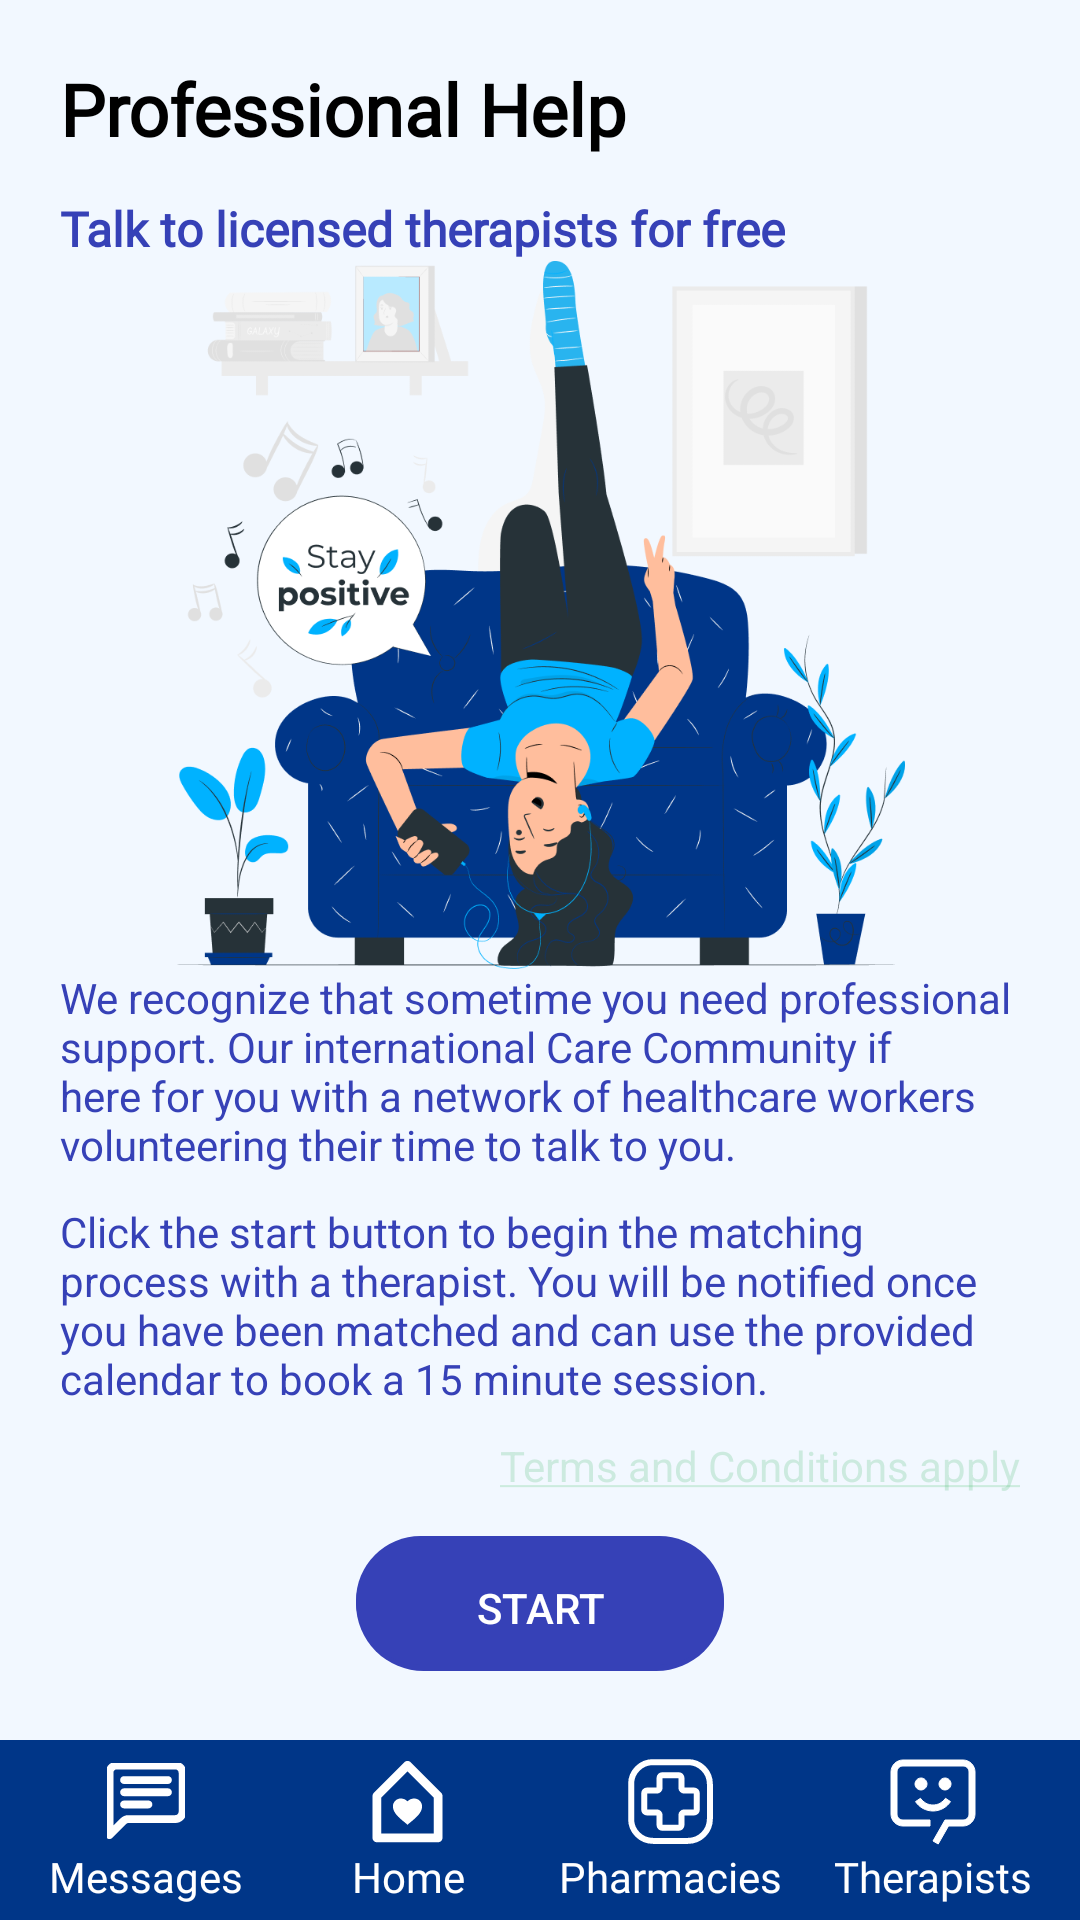

Icons on this 1080w x 1920h Android screen, each with its box as (x1, y1, x2, y2):
smile: (890, 1759, 976, 1845)
